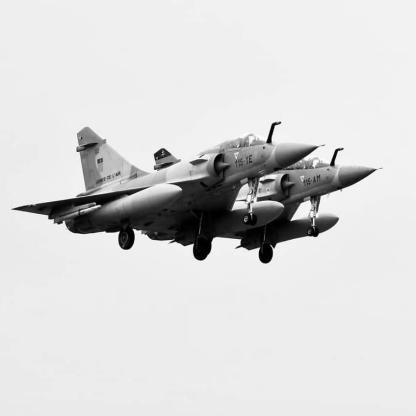Mirage2000: (11, 122, 327, 262), (142, 148, 385, 265)
